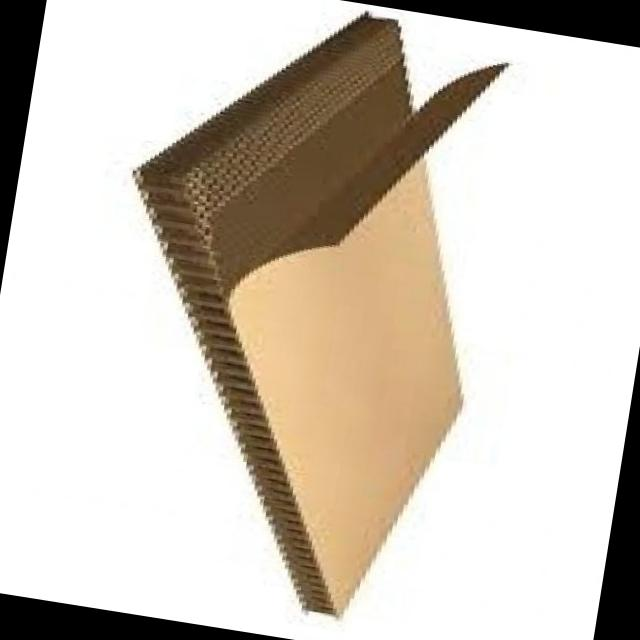cardboard paper: (141, 18, 507, 615)
